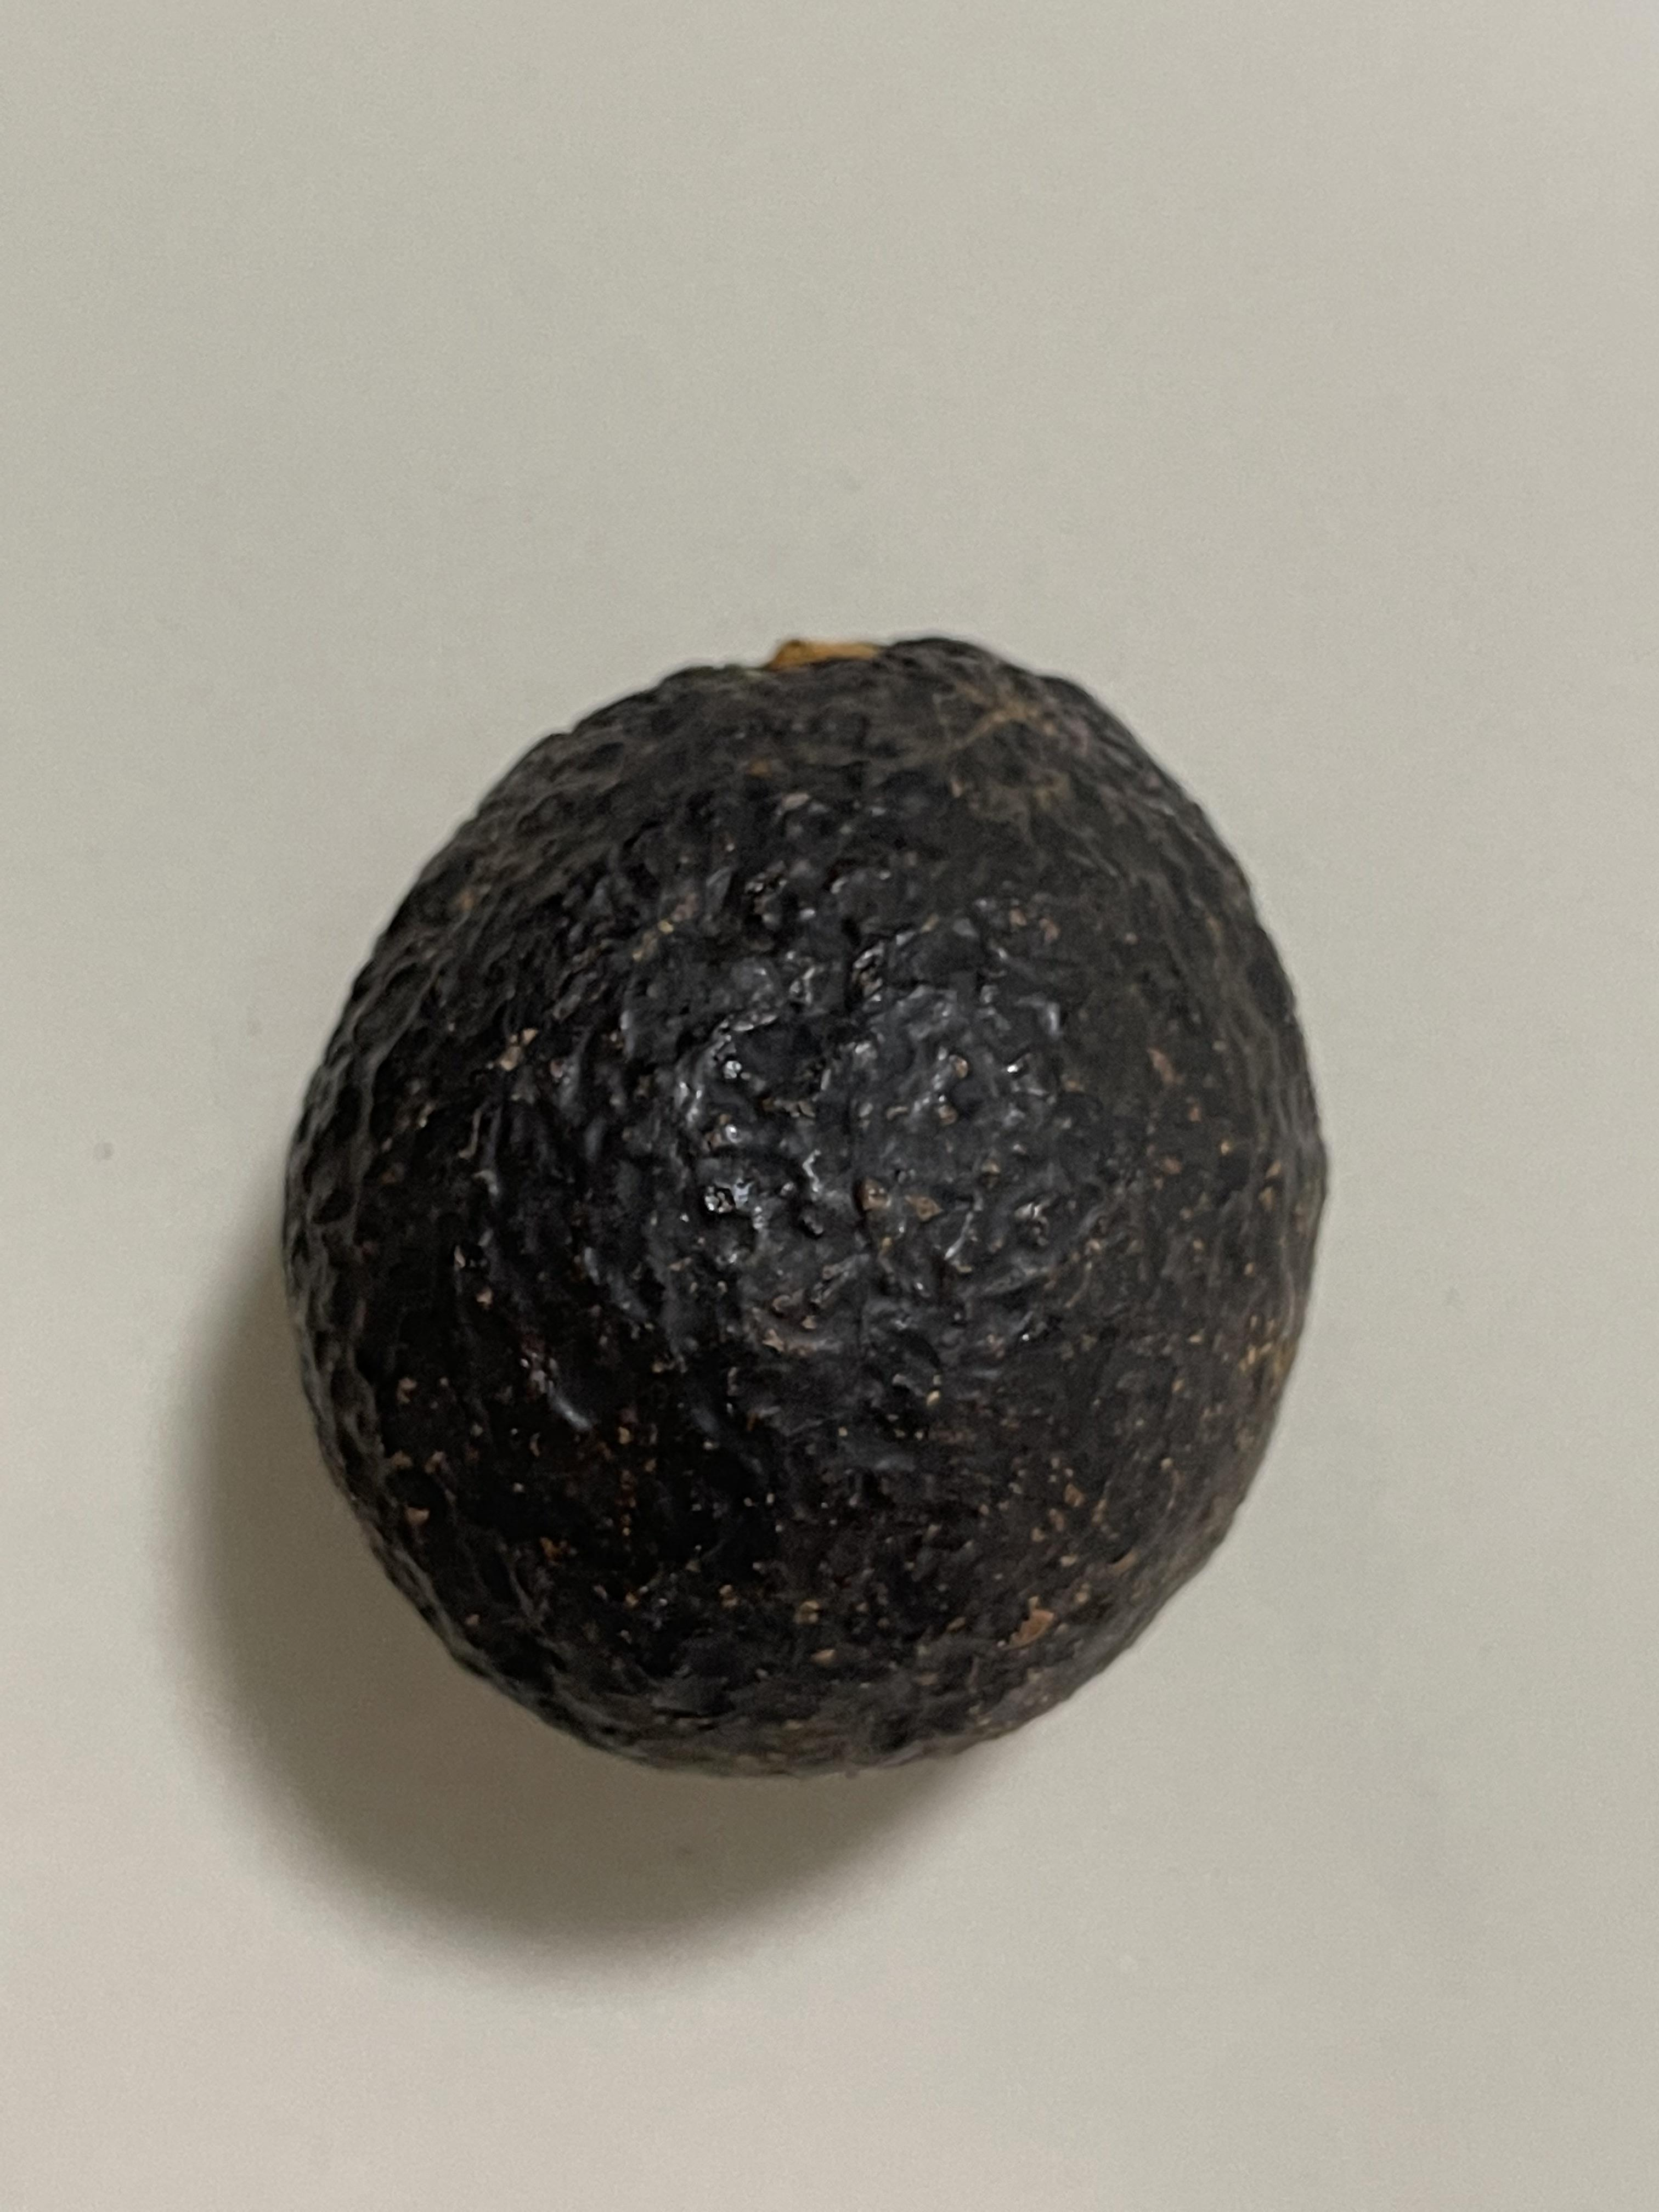Level2: (258, 603, 1351, 1794)
